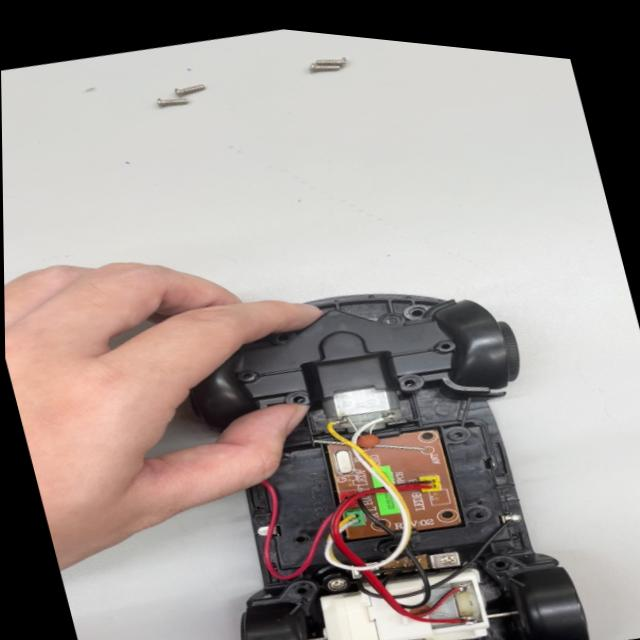motor_cover: (201, 264, 478, 438)
screw: (295, 46, 354, 86), (151, 84, 198, 122), (170, 74, 206, 102)
